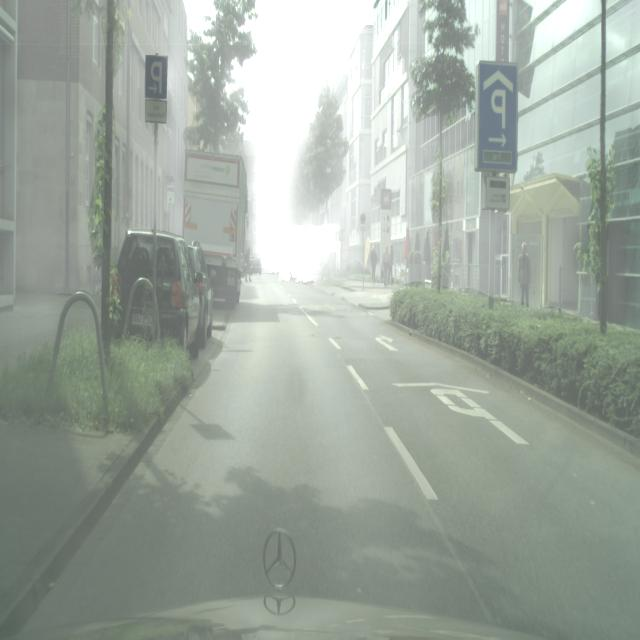bicycle: (183, 151, 248, 310)
bus: (111, 229, 206, 356), (188, 240, 214, 344), (302, 251, 322, 284), (292, 255, 305, 281)
person: (518, 241, 531, 308), (382, 246, 391, 286), (370, 245, 378, 283)
